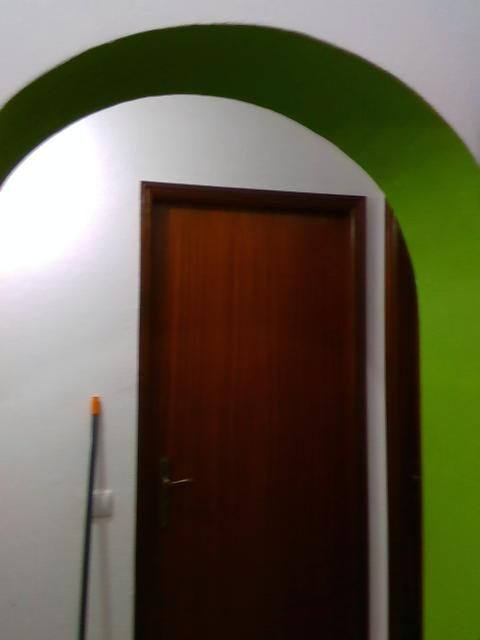closed_door: (134, 180, 369, 637)
